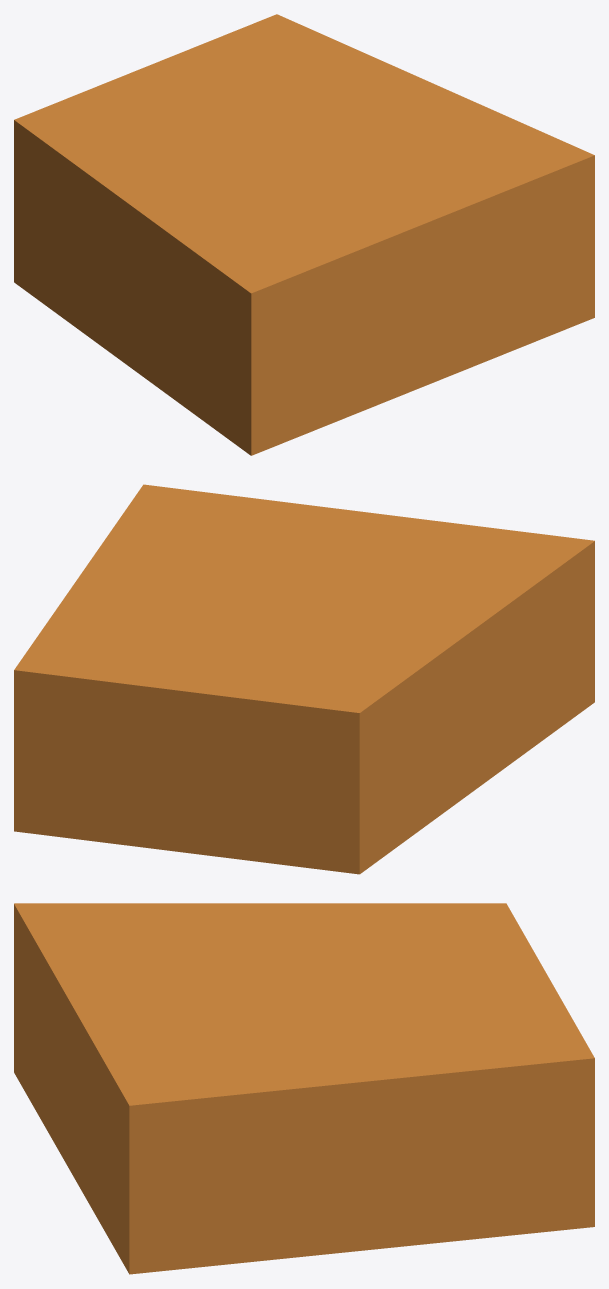
The picture shows the model from 3 angles, top to bottom: view 1: azimuth 30°, elevation 25°; view 2: azimuth 150°, elevation 25°; view 3: azimuth 270°, elevation 25°; orthographic projection. The views are drawn at different scales.
Visible parts, largest first — view 1: CORNER-A-24-p4; view 2: CORNER-A-24-p4; view 3: CORNER-A-24-p4.
Boxes of the visible parts, left/top/right/bottom form: CORNER-A-24-p4: left=14, top=14, right=594, bottom=455; CORNER-A-24-p4: left=14, top=484, right=594, bottom=874; CORNER-A-24-p4: left=14, top=903, right=594, bottom=1274.
Bounding box in the file's own units: 0.09 × 0.035 × 0.1092.
